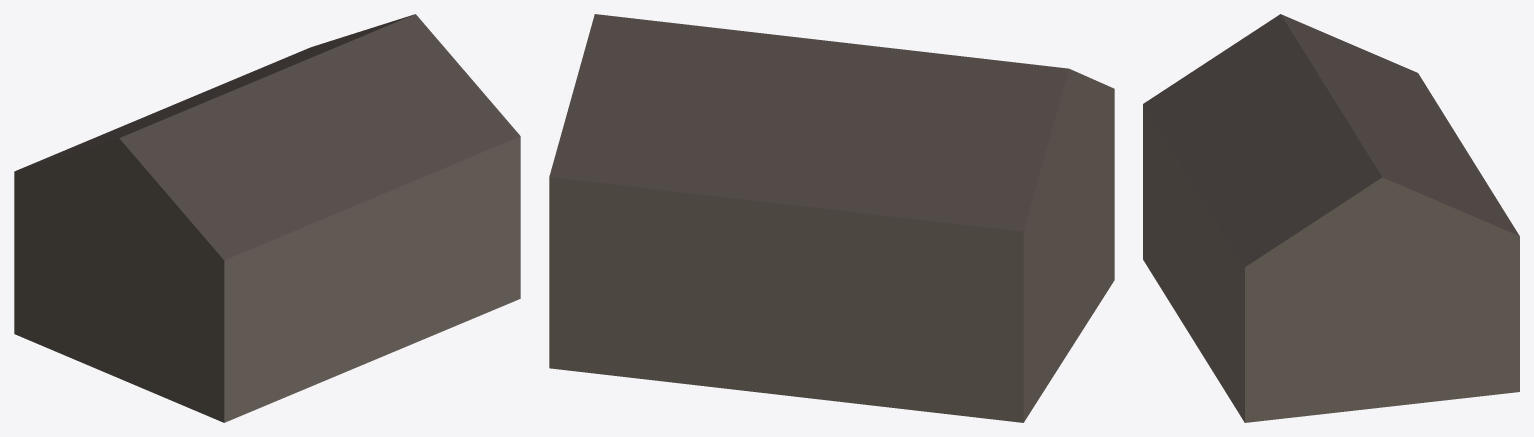
3 renders of one model, left to right at view 1: azimuth 30°, elevation 25°; view 2: azimuth 150°, elevation 25°; view 3: azimuth 270°, elevation 25°, orthographic. The views are drawn at different scales.
Parts seen in each view (by area): view 1: HP-w1200779101; view 2: HP-w1200779101; view 3: HP-w1200779101.
Part boxes in pixels (box(x1,y1,x2,y2)): HP-w1200779101: box(14, 14, 520, 422); HP-w1200779101: box(549, 14, 1114, 422); HP-w1200779101: box(1143, 14, 1519, 422).
Bounding box in the file's own units: 16.07 × 8.87 × 13.17.
